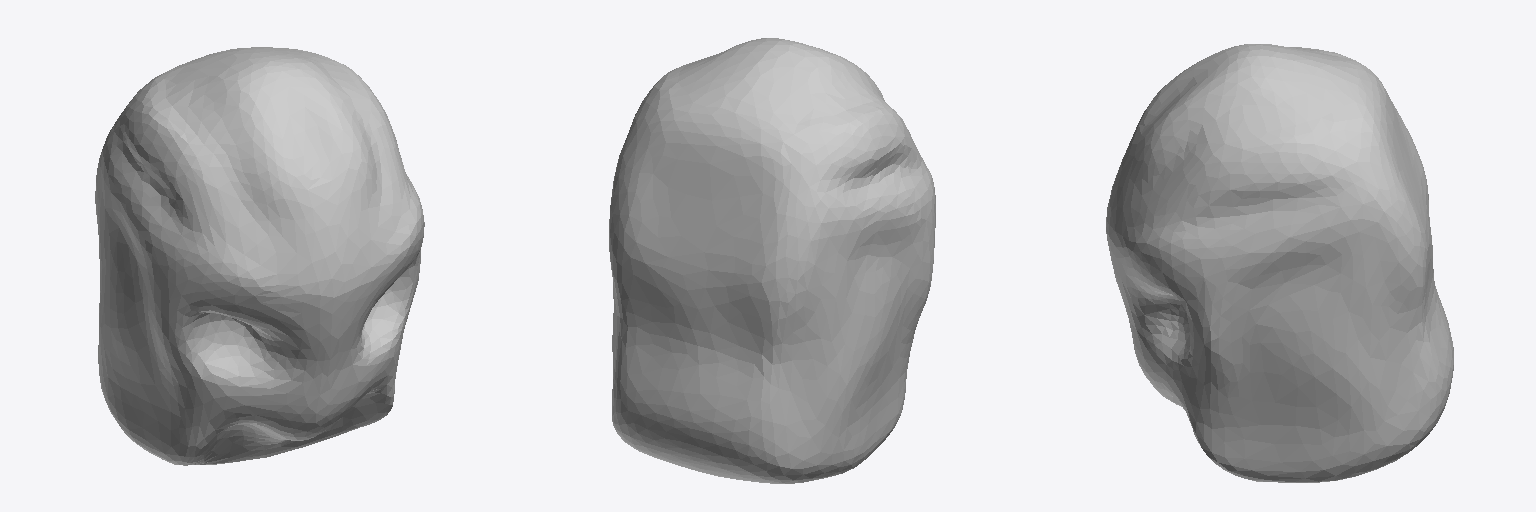
The model's file is lowpoly statue.OBJ.
3 views of the same model, side by side, from view 1: azimuth 30°, elevation 25°; view 2: azimuth 150°, elevation 25°; view 3: azimuth 270°, elevation 25° (orthographic).
Visible parts, largest first — view 1: Group43293; view 2: Group43293; view 3: Group43293.
Boxes of the visible parts, x1,y1,x2,y2 form: Group43293: [95, 47, 424, 465]; Group43293: [609, 38, 935, 483]; Group43293: [1106, 44, 1453, 482].
Bounding box in the file's own units: 0.4626 × 0.6928 × 0.5418.